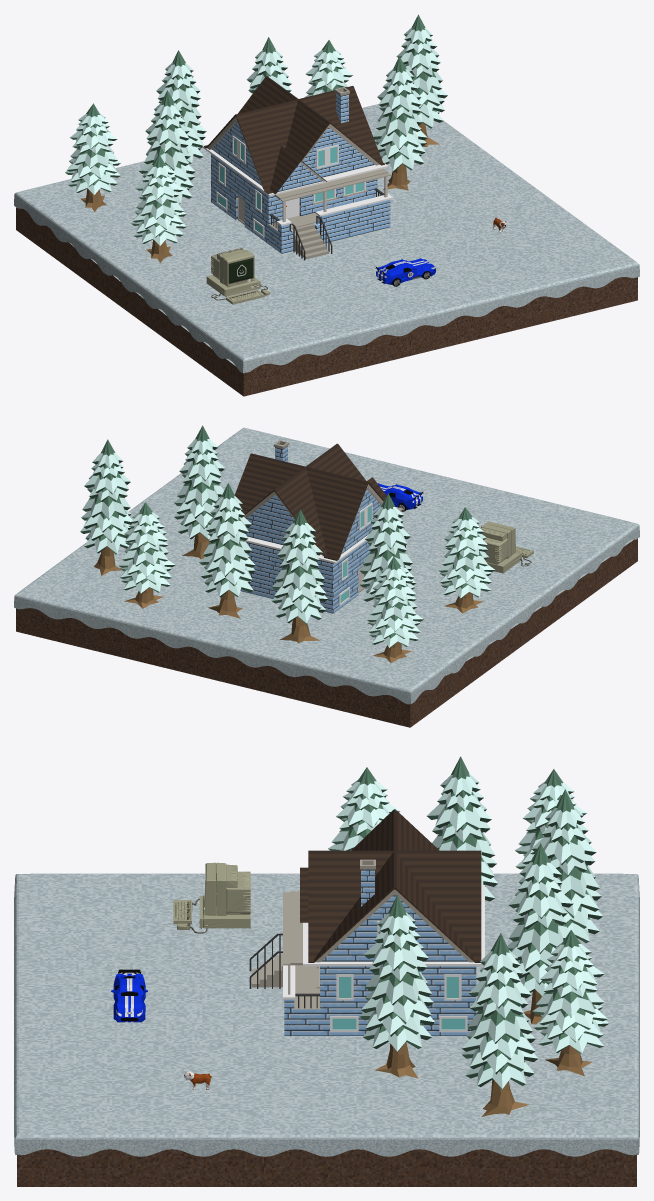
3 renders of one model, top to bottom at view 1: azimuth 30°, elevation 25°; view 2: azimuth 150°, elevation 25°; view 3: azimuth 270°, elevation 25°, orthographic. The views are drawn at different scales.
Parts seen in each view (by area): view 1: Cube.003, Cube.547, OBJRANDOM_RETRO_PC, VEHICLES_RACING_CAR; view 2: Cube.003, Cube.547, OBJRANDOM_RETRO_PC, VEHICLES_RACING_CAR; view 3: Cube.003, Cube.547, OBJRANDOM_RETRO_PC, VEHICLES_RACING_CAR.
Boxes of the visible parts, x1=… form: Cube.003: x1=14, y1=14, x2=639, y2=396; Cube.547: x1=202, y1=76, x2=393, y2=260; OBJRANDOM_RETRO_PC: x1=206, y1=248, x2=269, y2=304; VEHICLES_RACING_CAR: x1=375, y1=258, x2=435, y2=286; Cube.003: x1=14, y1=425, x2=639, y2=727; Cube.547: x1=235, y1=440, x2=405, y2=613; OBJRANDOM_RETRO_PC: x1=481, y1=521, x2=533, y2=573; VEHICLES_RACING_CAR: x1=378, y1=483, x2=423, y2=511; Cube.003: x1=14, y1=756, x2=639, y2=1186; Cube.547: x1=249, y1=809, x2=484, y2=1035; OBJRANDOM_RETRO_PC: x1=173, y1=862, x2=250, y2=933; VEHICLES_RACING_CAR: x1=111, y1=969, x2=147, y2=1022.
Bounding box in the file's own units: 4040 × 1642 × 4040.
Materials: 34 (5 with a texture image).
